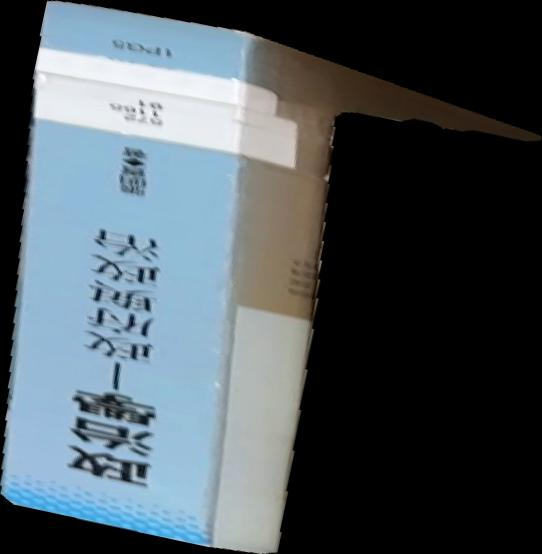reverse: (1, 1, 542, 554)
